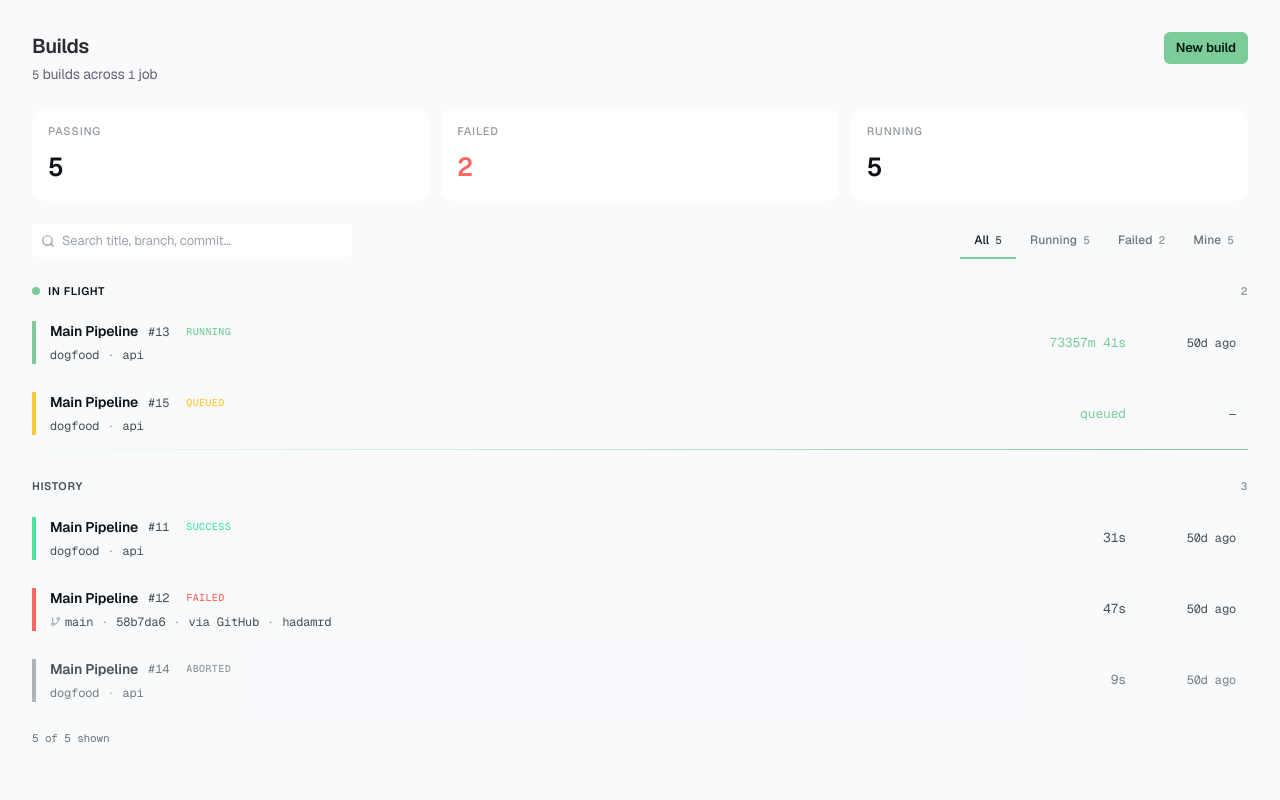
Test case: Builds row redesign — failed tab filter › clicking Failed tab requests status=FAILED&status=ABORTED
The width and height of the screenshot is (1280, 800).
What coordinates should you click on to do the following:
click the tab with test id "filter-tab-failed"
I would click on:
 (1142, 240)
Its box is [1104, 222, 1179, 258].
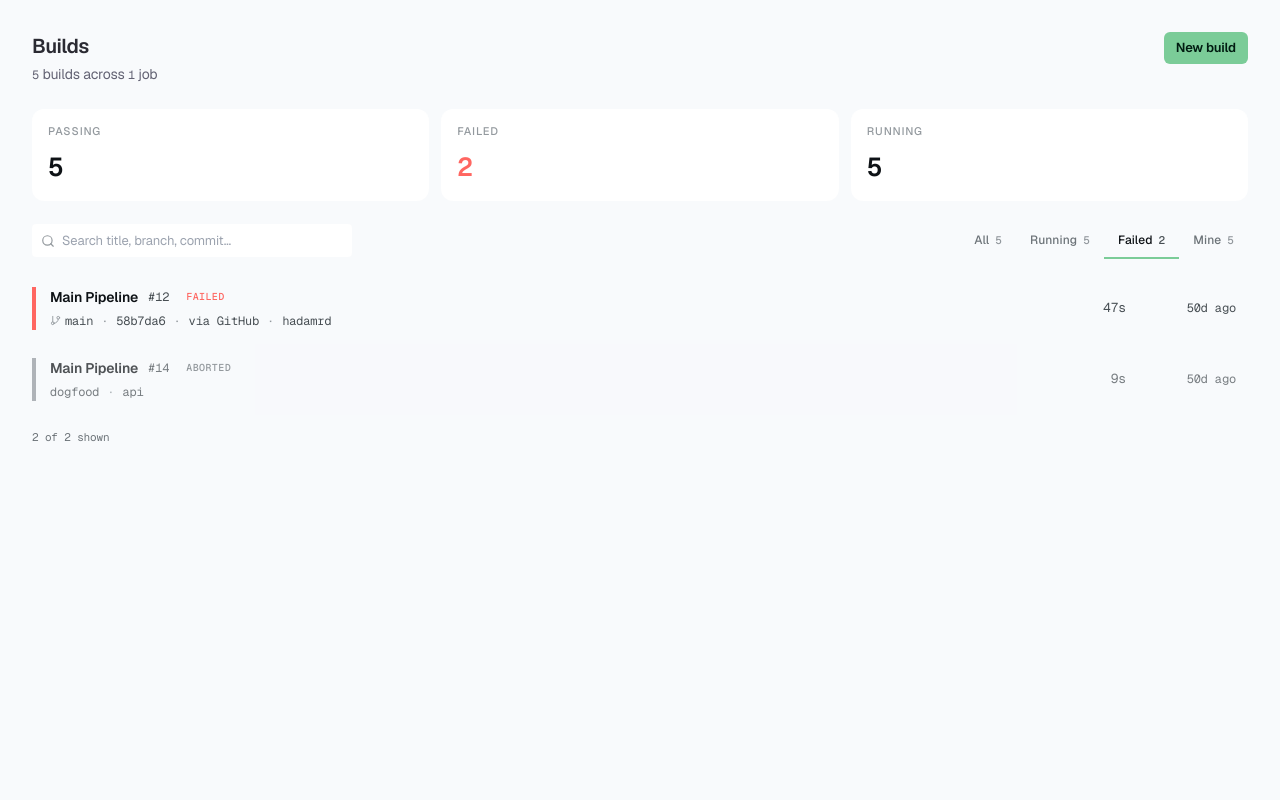
Now the link with test id "builds-row-101" is gone
Now the link with test id "builds-row-103" is gone
Now the link with test id "builds-row-105" is gone
